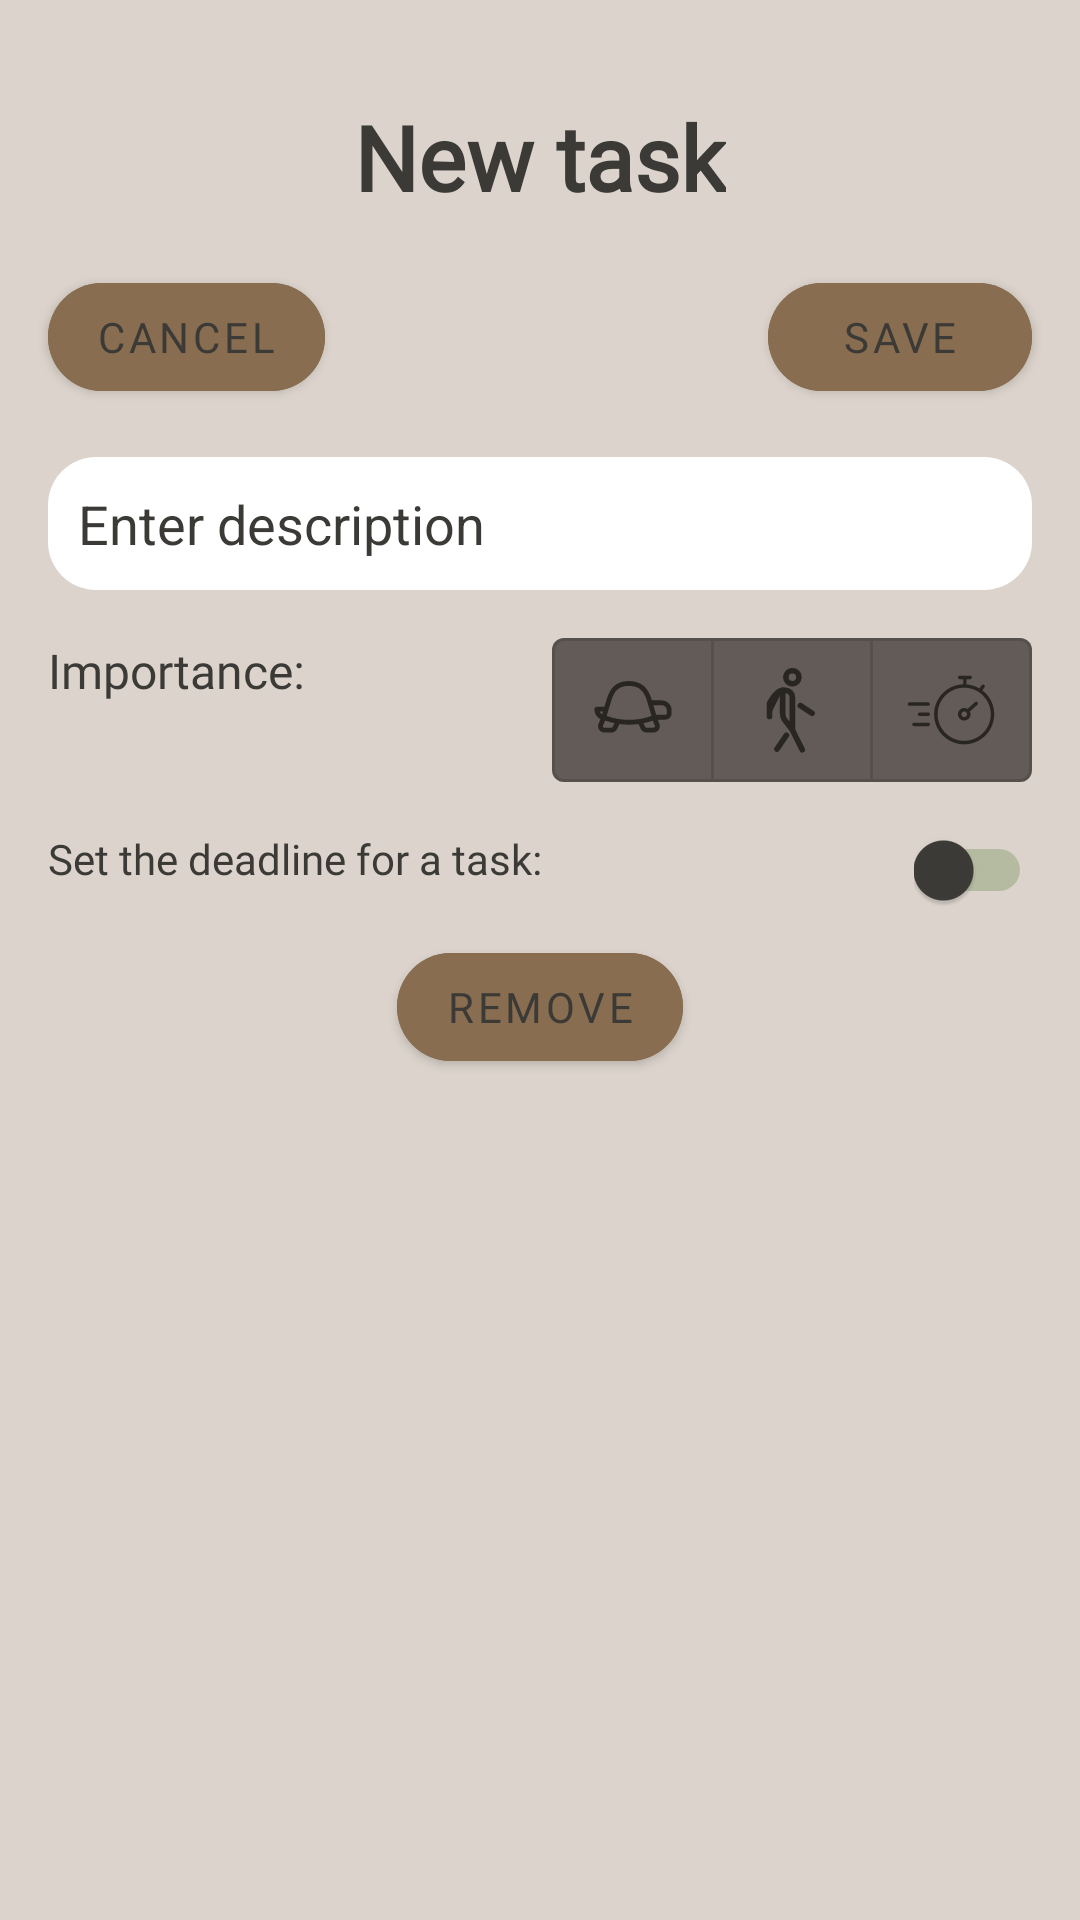

Where to tap for icons on this 1080w x 1920h app screen, as [x,y]:
normally: [792,710]
slow: [633,710]
urgently: [951,710]
